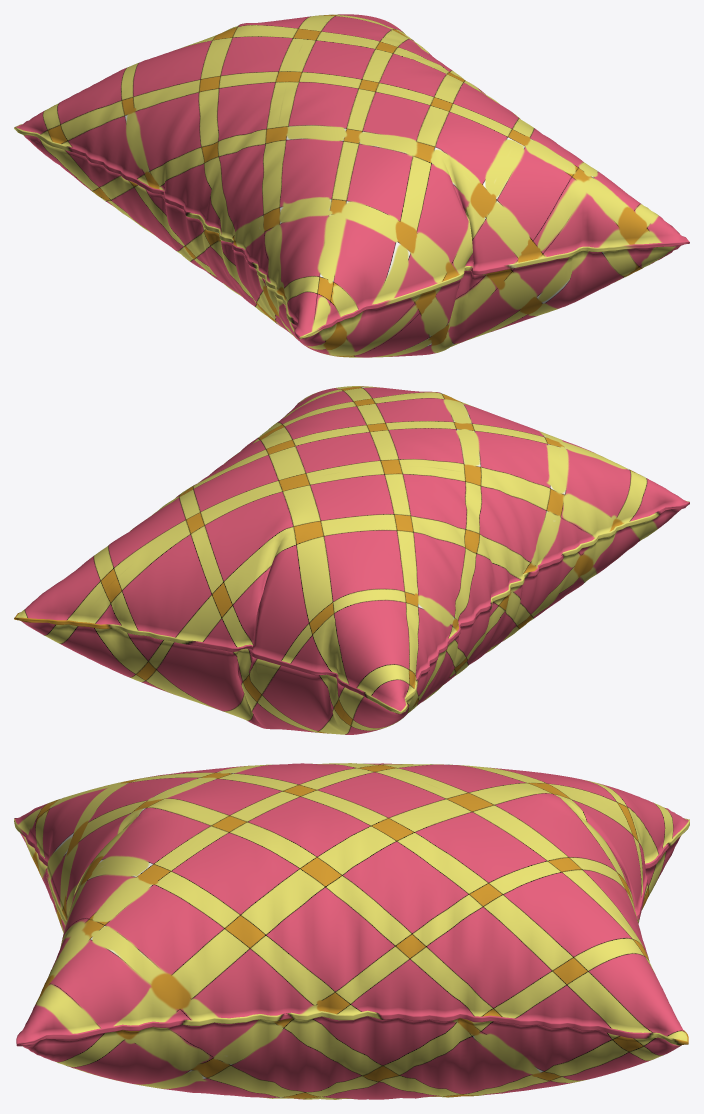
The model's file is pillow-pink.fbx.
3 views of the same model, one above another, from view 1: azimuth 30°, elevation 25°; view 2: azimuth 150°, elevation 25°; view 3: azimuth 270°, elevation 25° (orthographic). The views are drawn at different scales.
Parts seen in each view (by area): view 1: Cube_Pillow_0; view 2: Cube_Pillow_0; view 3: Cube_Pillow_0.
Part boxes in pixels (x1,y1,x2,y2): Cube_Pillow_0: [14, 14, 689, 357]; Cube_Pillow_0: [14, 386, 689, 734]; Cube_Pillow_0: [14, 763, 689, 1099].
Bounding box in the file's own units: 17984 × 10420 × 22818.
